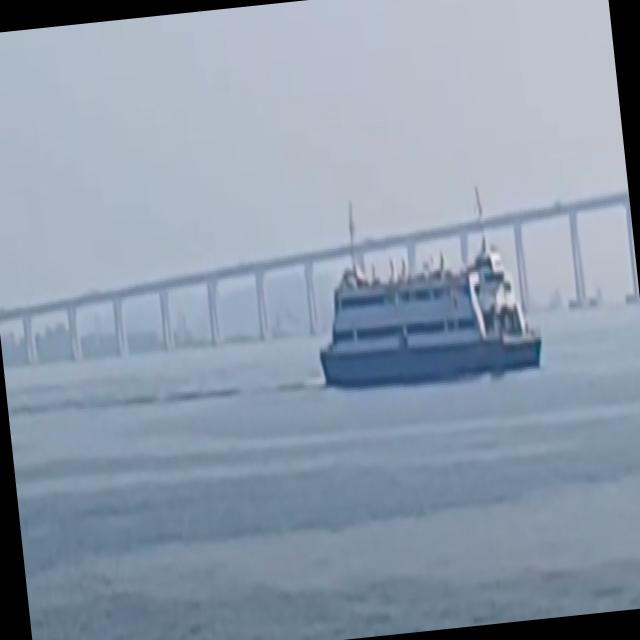Passenger: (320, 185, 542, 387)
